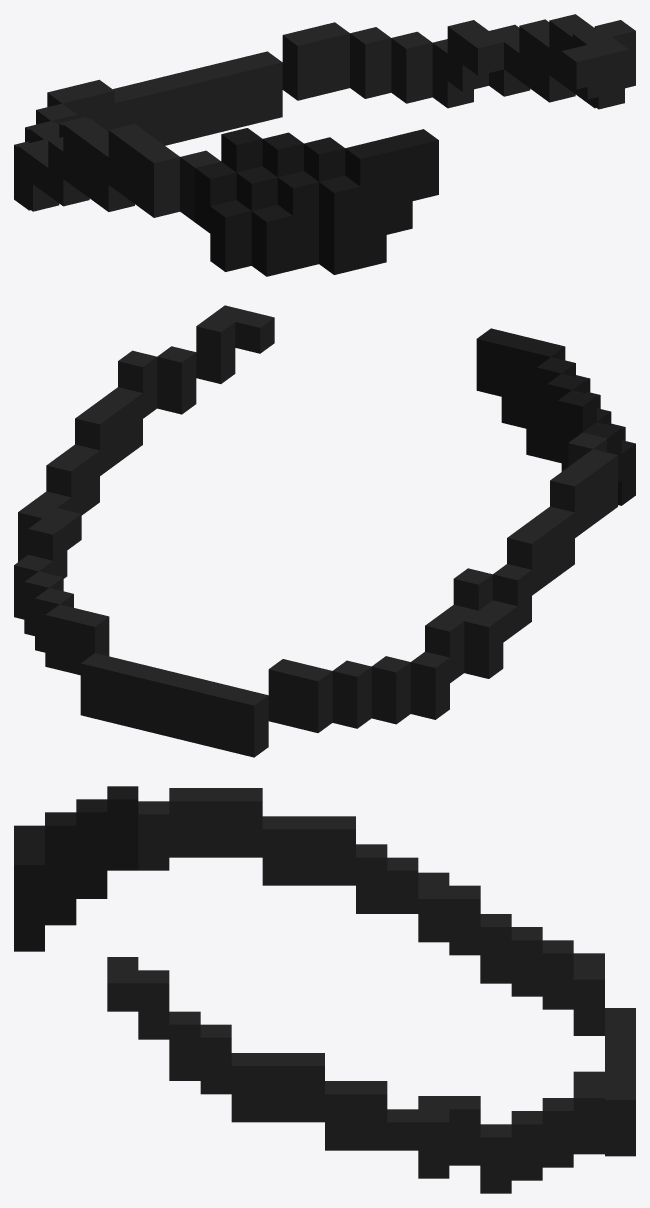
File: eye patch_yellow hardhat.gltf
The picture shows the model from 3 angles, top to bottom: view 1: azimuth 30°, elevation 25°; view 2: azimuth 150°, elevation 25°; view 3: azimuth 270°, elevation 25°; orthographic projection. The views are drawn at different scales.
Parts seen in each view (by area): view 1: C56_E_YellowH_EyePatch-Mesh; view 2: C56_E_YellowH_EyePatch-Mesh; view 3: C56_E_YellowH_EyePatch-Mesh.
Boxes of the visible parts, x1=… form: C56_E_YellowH_EyePatch-Mesh: x1=14, y1=14, x2=635, y2=276; C56_E_YellowH_EyePatch-Mesh: x1=14, y1=305, x2=635, y2=757; C56_E_YellowH_EyePatch-Mesh: x1=14, y1=786, x2=635, y2=1193.
Bounding box in the file's own units: 19 × 8 × 20.
1 material, 1 textured.
